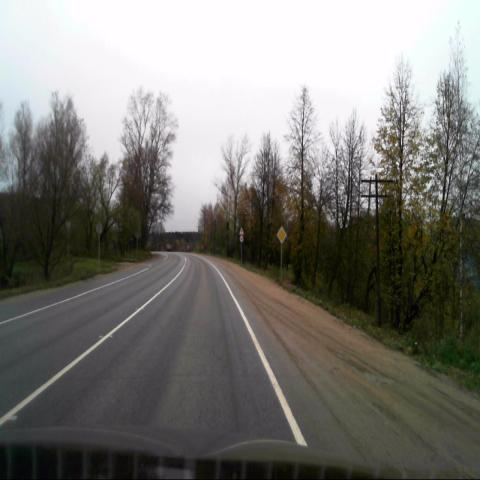2_1: (276, 226, 286, 243)
